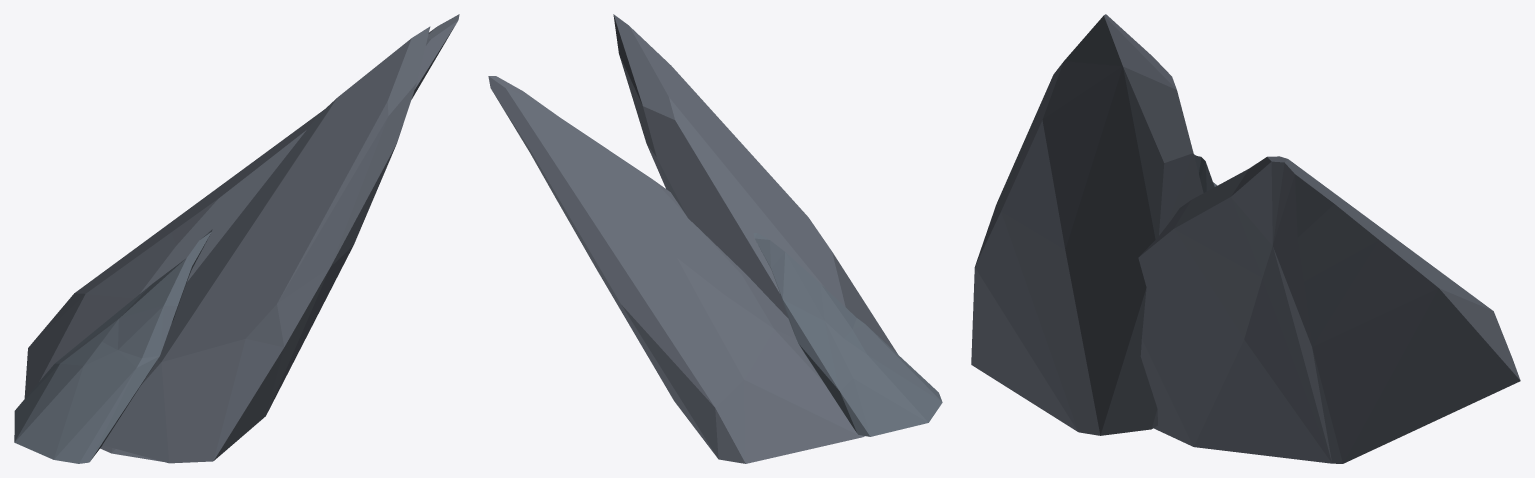
The model's file is Rocks_Sharp_l_01 5.fbx.
3 renders of one model, left to right at view 1: azimuth 30°, elevation 25°; view 2: azimuth 150°, elevation 25°; view 3: azimuth 270°, elevation 25°, orthographic. The views are drawn at different scales.
Visible parts, largest first — view 1: Rocks_Sharp_l_01; view 2: Rocks_Sharp_l_01; view 3: Rocks_Sharp_l_01.
Boxes of the visible parts, x1,y1,x2,y2 form: Rocks_Sharp_l_01: [14, 14, 459, 463]; Rocks_Sharp_l_01: [488, 14, 942, 463]; Rocks_Sharp_l_01: [971, 14, 1520, 463].
Size of the model in its own units: 1424 by 1004 by 891.
